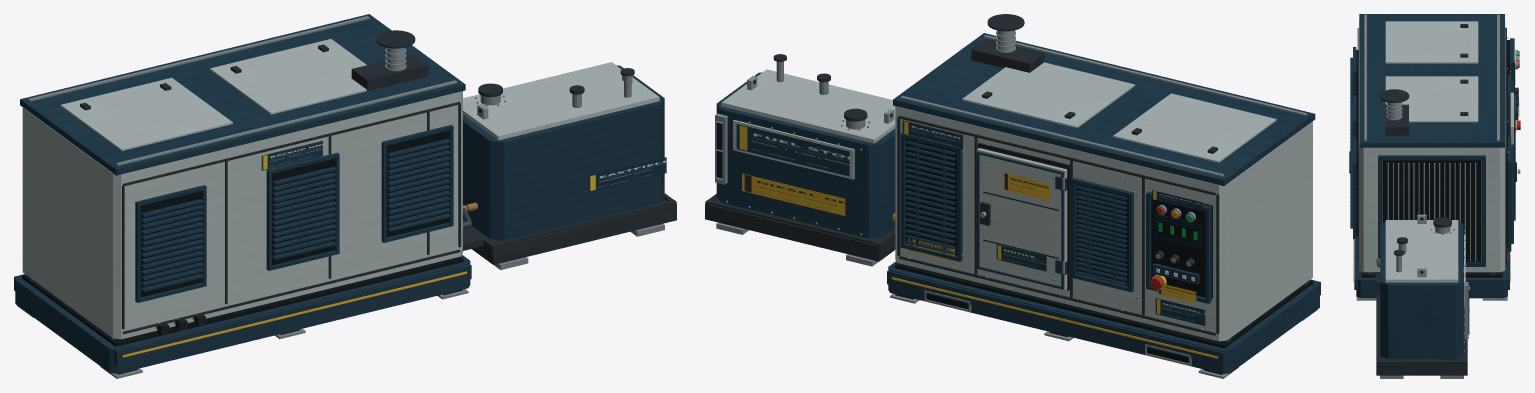
3 views of the same model, side by side, from view 1: azimuth 30°, elevation 25°; view 2: azimuth 150°, elevation 25°; view 3: azimuth 270°, elevation 25° (orthographic). The views are drawn at different scales.
Visible parts, largest first — view 1: VIS_Generator_Enclosure, VIS_Generator_RoofExhaust, VIS_Generator_Cooling, VIS_FuelTank_Hull, VIS_Generator_Chassis, VIS_FuelTank_Details, VIS_FuelTank_Decals, VIS_Generator_Decals; view 2: VIS_Generator_Enclosure, VIS_Generator_RoofExhaust, VIS_FuelTank_Details, VIS_Generator_Chassis, VIS_Generator_Cooling, VIS_FuelTank_Hull, VIS_ServiceDoor_Moving, VIS_Generator_ControlStation, VIS_FuelTank_Decals, VIS_Generator_Decals, VIS_ServiceDoor_Label; view 3: VIS_Generator_RoofExhaust, VIS_Generator_Cooling, VIS_FuelTank_Details, VIS_Generator_Enclosure, VIS_FuelTank_Hull, VIS_Generator_Chassis, VIS_Generator_ControlStation, VIS_ServiceDoor_Moving.
Boxes of the visible parts, x1,y1,x2,y2 form: VIS_Generator_Enclosure: [22, 91, 466, 357]; VIS_Generator_RoofExhaust: [20, 14, 465, 175]; VIS_Generator_Cooling: [135, 125, 453, 302]; VIS_FuelTank_Hull: [463, 65, 664, 240]; VIS_Generator_Chassis: [14, 255, 471, 378]; VIS_FuelTank_Details: [463, 62, 676, 269]; VIS_FuelTank_Decals: [588, 157, 666, 191]; VIS_Generator_Decals: [261, 141, 322, 170]; VIS_Generator_Enclosure: [891, 106, 1312, 358]; VIS_Generator_RoofExhaust: [893, 14, 1315, 185]; VIS_FuelTank_Details: [705, 54, 895, 266]; VIS_Generator_Chassis: [887, 261, 1320, 378]; VIS_Generator_Cooling: [900, 133, 1133, 292]; VIS_FuelTank_Hull: [716, 72, 895, 238]; VIS_ServiceDoor_Moving: [977, 148, 1067, 290]; VIS_Generator_ControlStation: [1146, 191, 1212, 303]; VIS_FuelTank_Decals: [736, 124, 849, 215]; VIS_Generator_Decals: [902, 120, 1205, 325]; VIS_ServiceDoor_Label: [996, 172, 1049, 271]; VIS_Generator_RoofExhaust: [1359, 14, 1504, 147]; VIS_Generator_Cooling: [1350, 47, 1513, 266]; VIS_FuelTank_Details: [1376, 214, 1469, 378]; VIS_Generator_Enclosure: [1349, 20, 1510, 282]; VIS_FuelTank_Hull: [1380, 222, 1463, 359]; VIS_Generator_Chassis: [1354, 236, 1510, 300]; VIS_Generator_ControlStation: [1507, 38, 1520, 130]; VIS_ServiceDoor_Moving: [1510, 92, 1520, 220].
Size of the model in its own units: 7.53 by 3.09 by 2.55.
2 materials, 2 textured.
